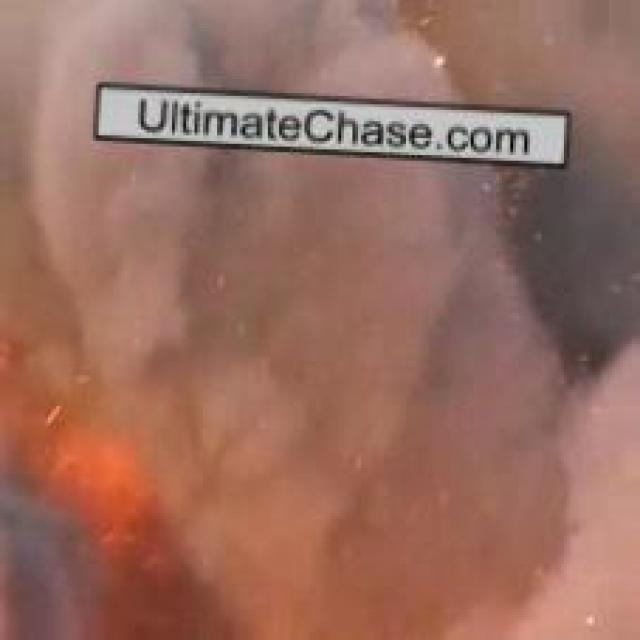smoke: (24, 12, 602, 618)
